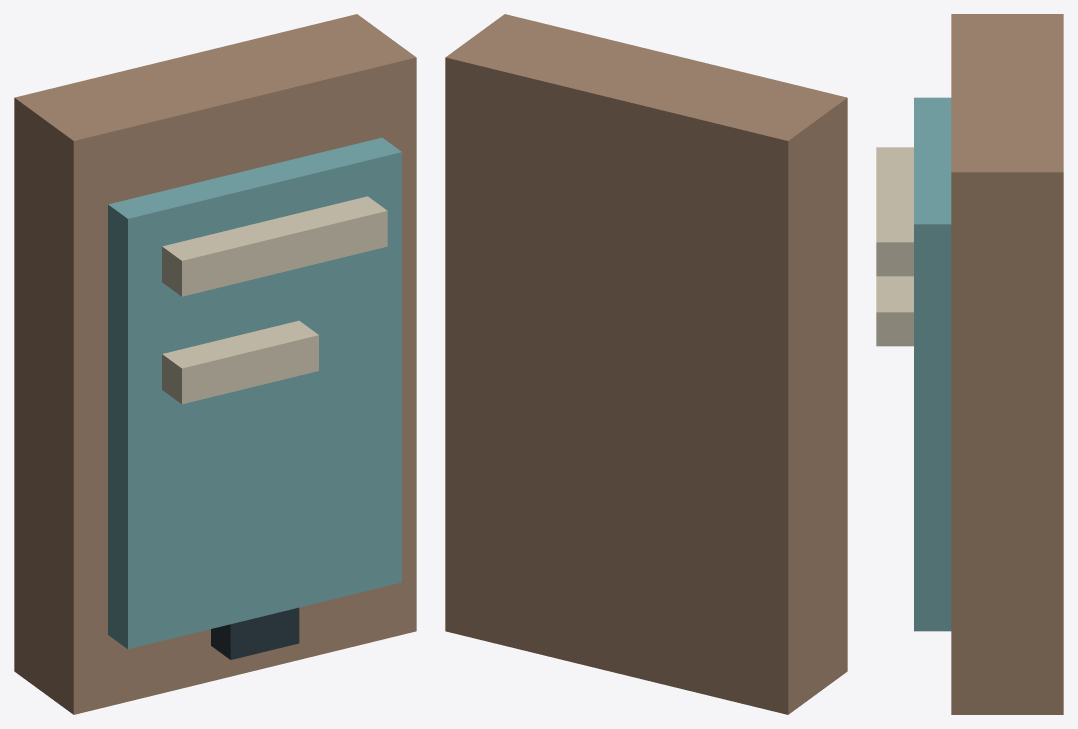
The model's file is publishing-14.glb.
3 renders of one model, left to right at view 1: azimuth 30°, elevation 25°; view 2: azimuth 150°, elevation 25°; view 3: azimuth 270°, elevation 25°, orthographic. The views are drawn at different scales.
Visible parts, largest first — view 1: E-reader; view 2: E-reader; view 3: E-reader.
Part boxes in pixels (x1,y1,x2,y2): E-reader: (14, 14, 416, 714); E-reader: (445, 14, 847, 714); E-reader: (876, 14, 1063, 714).
Bounding box in the file's own units: 0.8 × 1.28 × 0.4.
